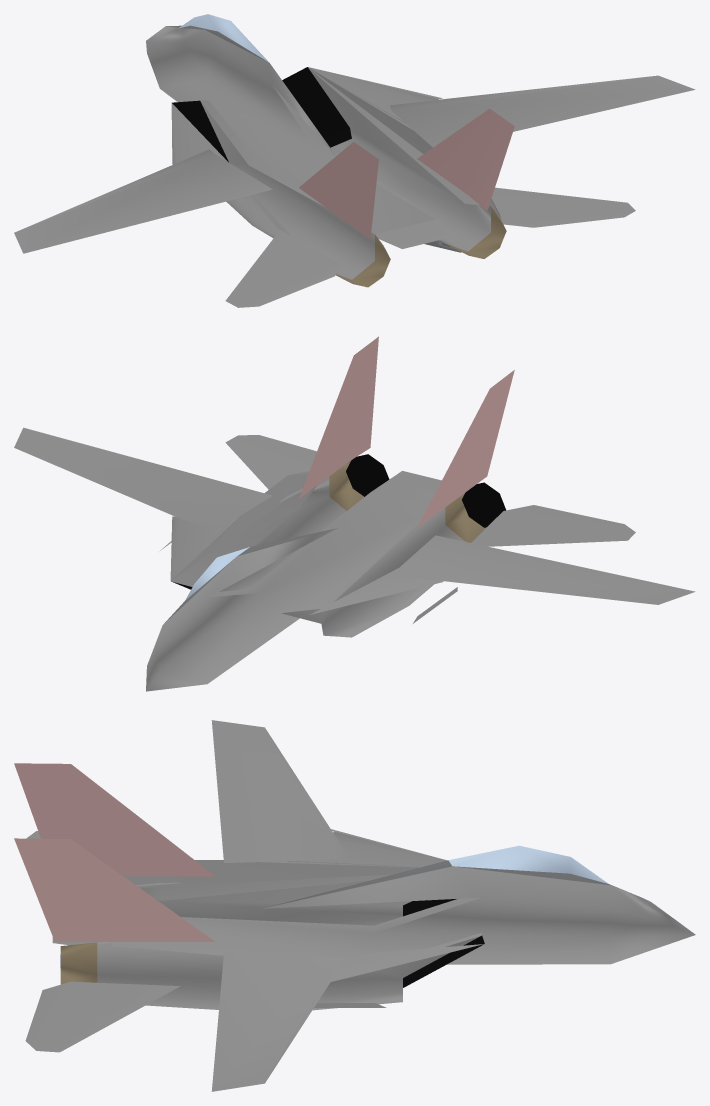
The model's file is ps2_save-icons_acecombat5-100pc.glb.
The picture shows the model from 3 angles, top to bottom: view 1: azimuth 30°, elevation 25°; view 2: azimuth 150°, elevation 25°; view 3: azimuth 270°, elevation 25°; orthographic projection. The views are drawn at different scales.
Parts seen in each view (by area): view 1: icon1.ico; view 2: icon1.ico; view 3: icon1.ico.
Boxes of the visible parts, left/top/right/bottom form: icon1.ico: left=14, top=14, right=695, bottom=307; icon1.ico: left=14, top=336, right=695, bottom=691; icon1.ico: left=14, top=720, right=695, bottom=1091.
Size of the model in its own units: 4.85 by 1.22 by 3.76.
1 material, 1 textured.
